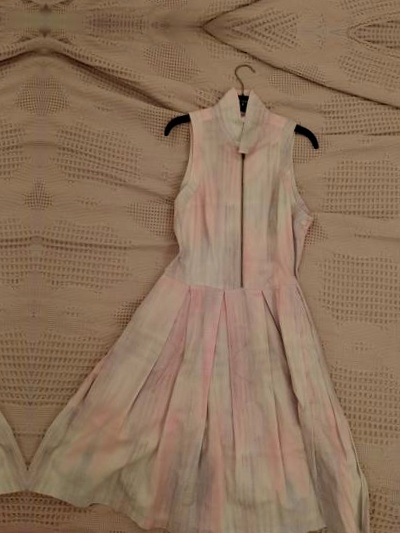Dress: (25, 68, 398, 533), (0, 54, 42, 533)
